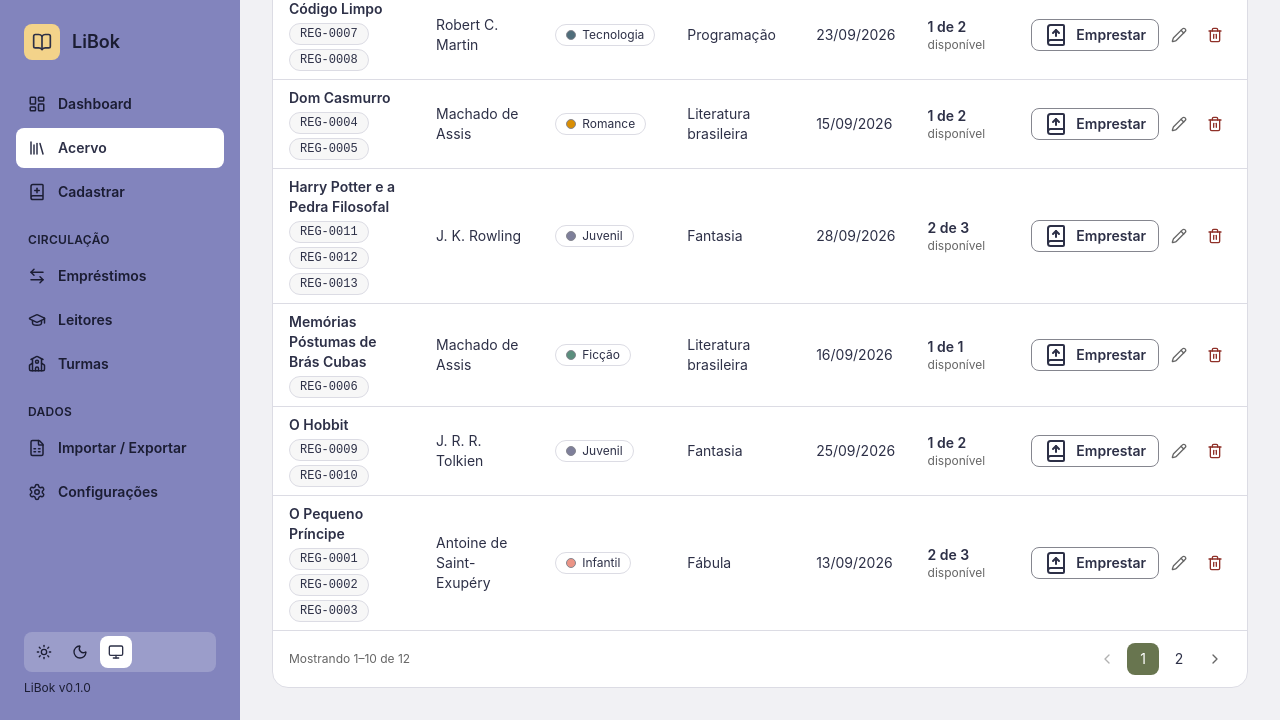
Test: fluxo: acervo › exclui com confirmação e trata HAS_ACTIVE_LOANS
(page scrolled)
Check: the text "O Hobbit" is shown, box left=289, top=416, right=348, bottom=432
What coordinates should you click on to do the following:
click the button named "Excluir O Hobbit"
I would click on:
 (1215, 450)
Its box is left=1199, top=434, right=1231, bottom=466.
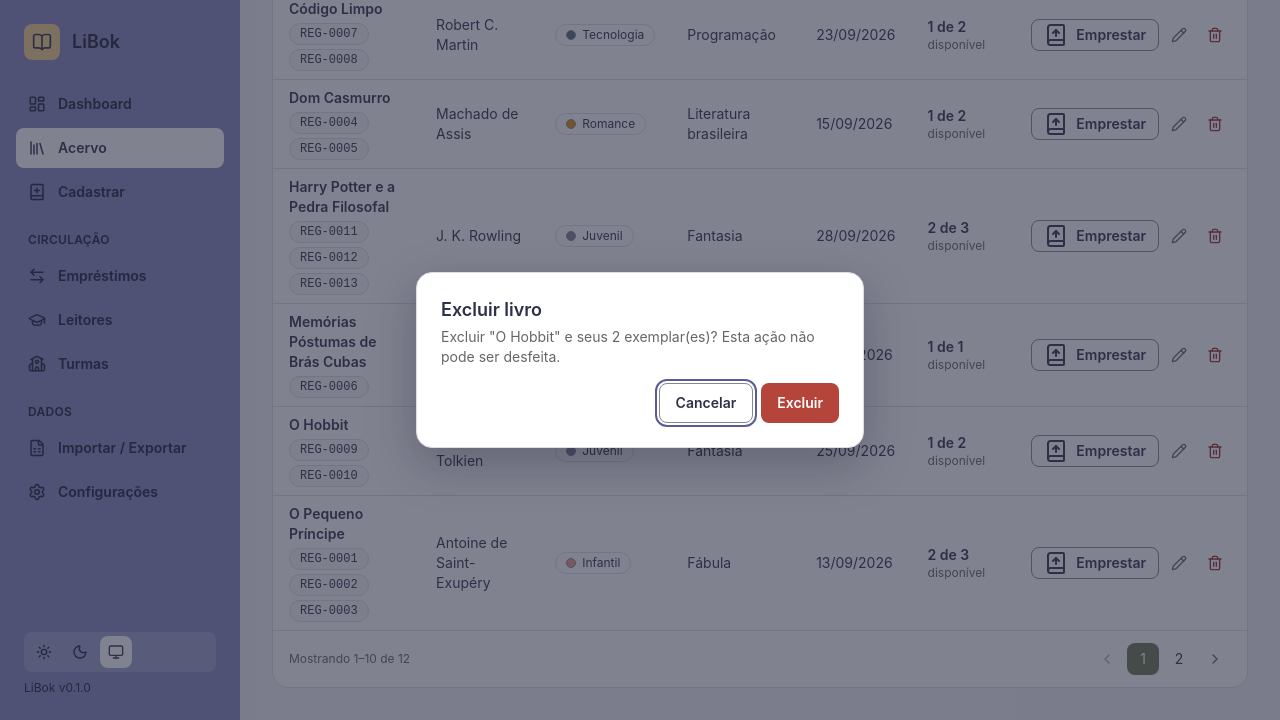
What coordinates should you click on to do the following:
click the button "Excluir"
I would click on:
 (800, 403)
Its box is left=761, top=383, right=839, bottom=423.
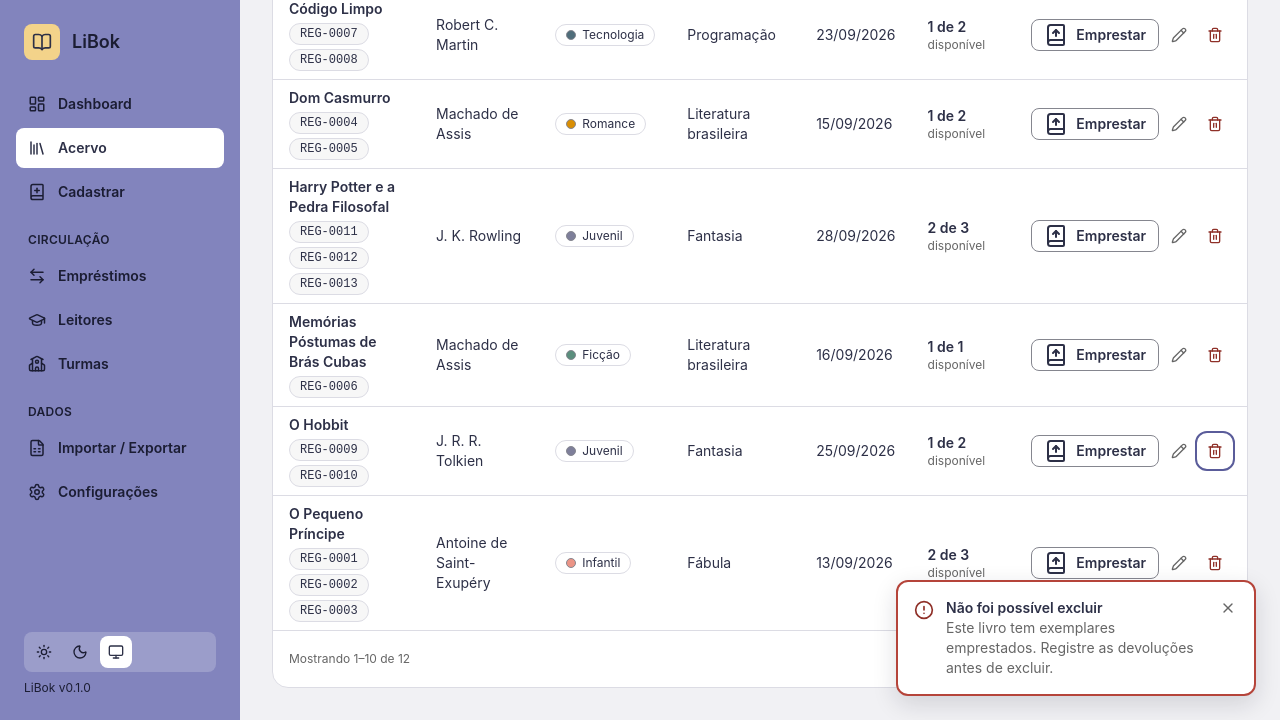
Check: the text "O Hobbit" is shown, box left=289, top=416, right=348, bottom=432
Check: the text "Não foi possível excluir" is shown, box left=946, top=599, right=1102, bottom=616
